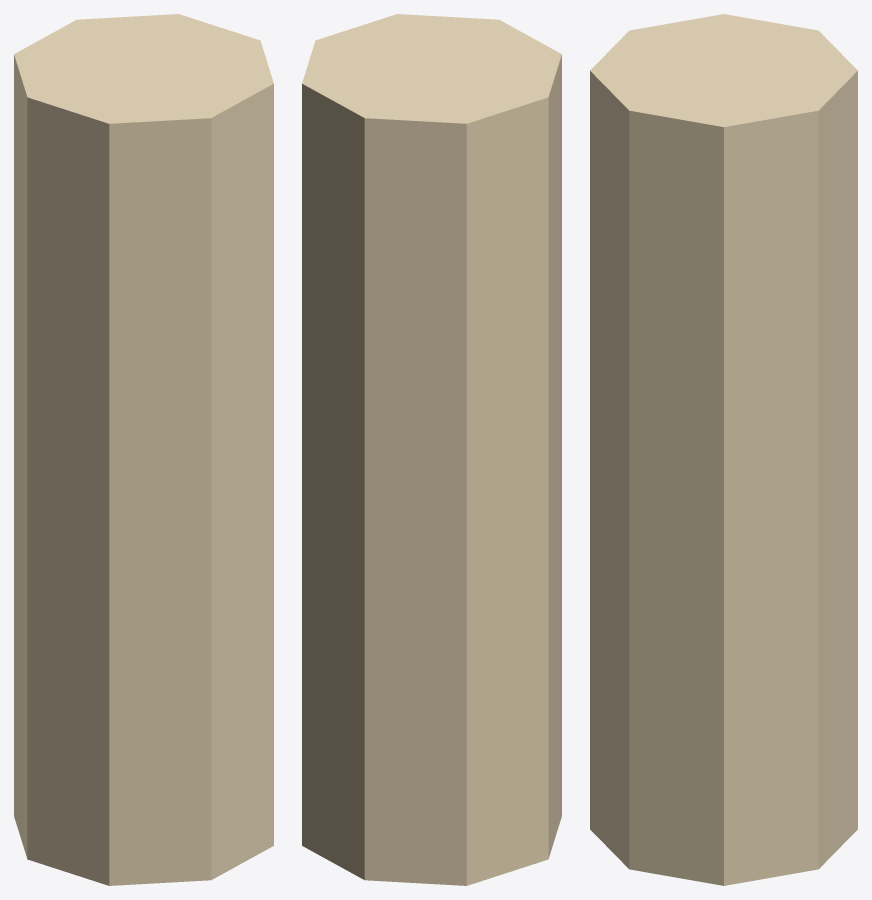
Rendered from SM_CH_Paper_Candle.fbx.
3 renders of one model, left to right at view 1: azimuth 30°, elevation 25°; view 2: azimuth 150°, elevation 25°; view 3: azimuth 270°, elevation 25°, orthographic.
Visible parts, largest first — view 1: SM_CH_Paper_Candle; view 2: SM_CH_Paper_Candle; view 3: SM_CH_Paper_Candle.
Boxes of the visible parts, x1,y1,x2,y2 form: SM_CH_Paper_Candle: (14, 14, 273, 885); SM_CH_Paper_Candle: (302, 14, 561, 885); SM_CH_Paper_Candle: (590, 14, 857, 885).
Bounding box in the file's own units: 1600 × 1600 × 5000.
